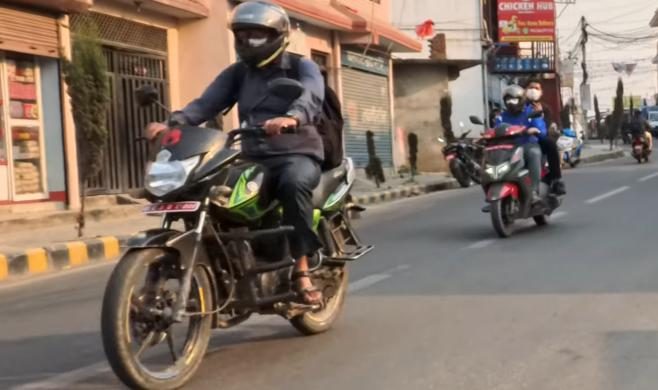bike: (101, 94, 376, 390)
